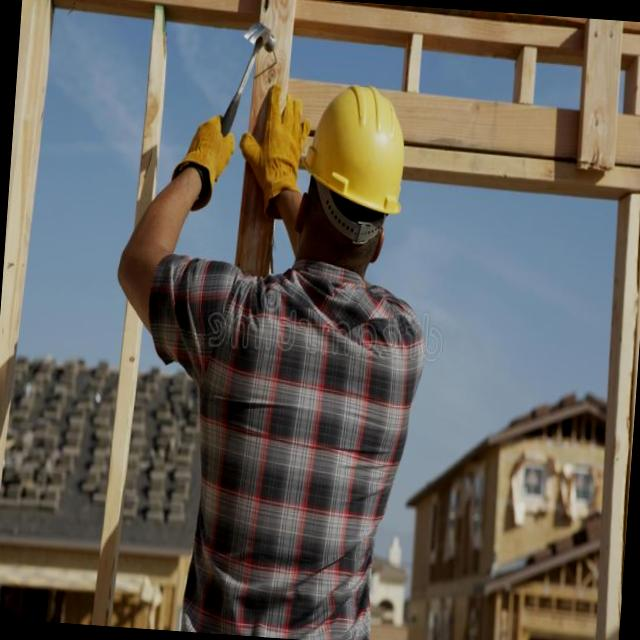helmet: (294, 75, 416, 221)
no-vest: (121, 238, 435, 640)
